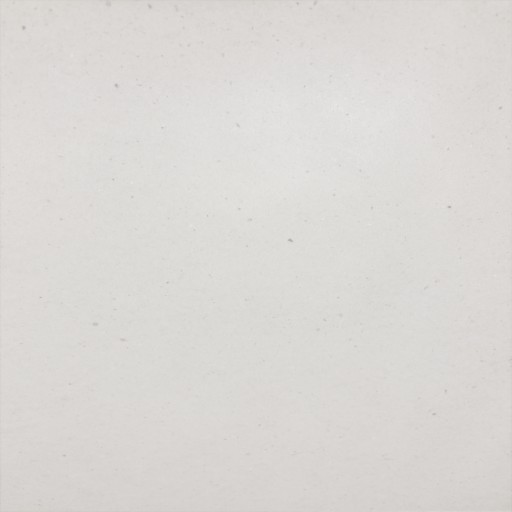lego: (231, 217, 280, 294)
